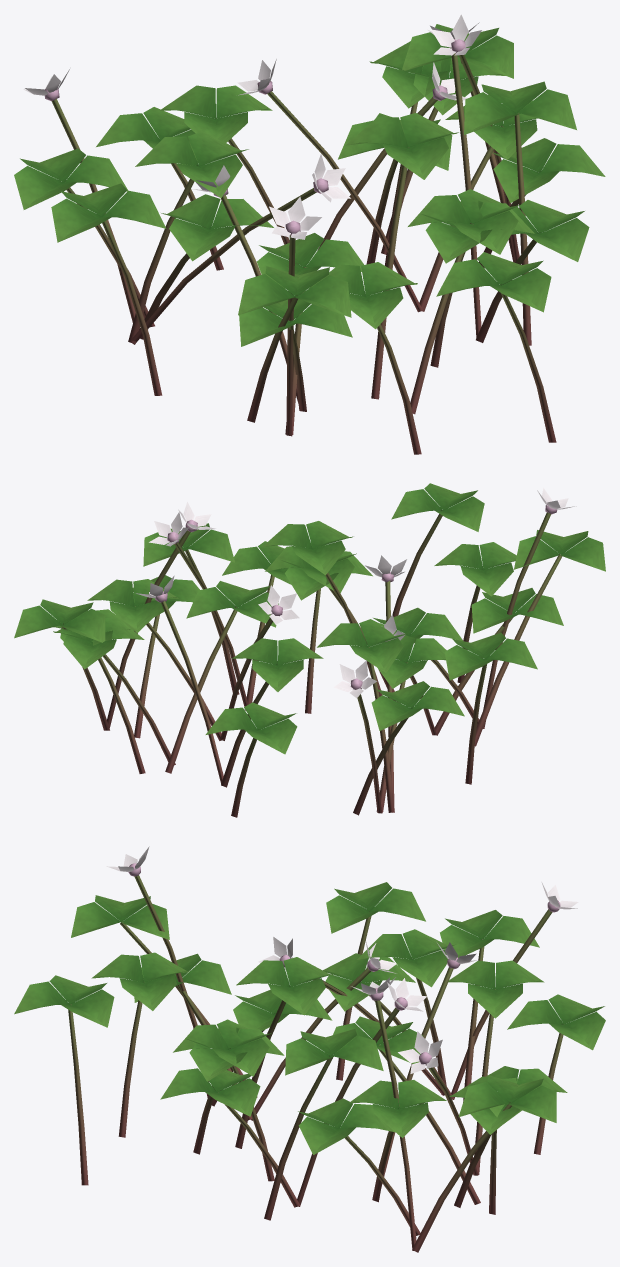
The model's file is woodsorrel.glb.
The picture shows the model from 3 angles, top to bottom: view 1: azimuth 30°, elevation 25°; view 2: azimuth 150°, elevation 25°; view 3: azimuth 270°, elevation 25°; orthographic projection. The views are drawn at different scales.
Parts seen in each view (by area): view 1: woodsorrel; view 2: woodsorrel; view 3: woodsorrel.
Part boxes in pixels (box(x1,y1,x2,y2)): woodsorrel: box(14, 14, 605, 454); woodsorrel: box(14, 483, 605, 817); woodsorrel: box(14, 846, 605, 1252).
Bounding box in the file's own units: 0.2135 × 0.1065 × 0.2336.
Materials: 1 (1 with a texture image).
